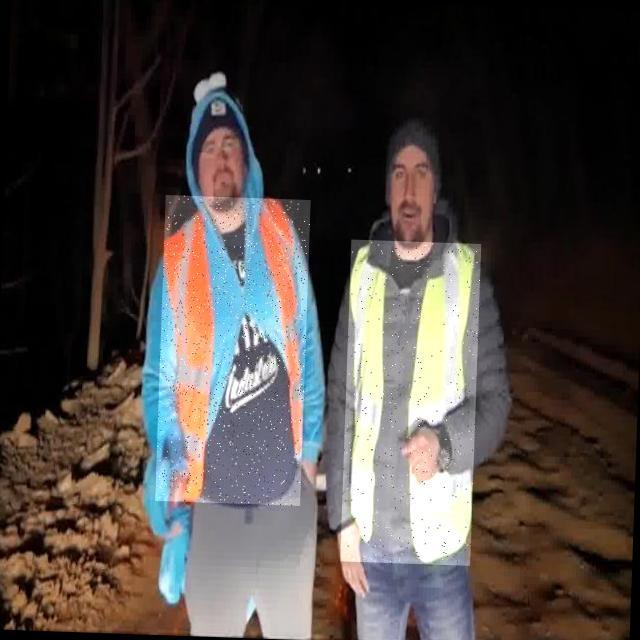Gloves: (133, 429, 202, 551)
Person: (98, 42, 328, 640), (328, 85, 530, 640)
Safety Vest: (155, 195, 311, 506), (340, 239, 481, 565)
bare-arms: (328, 510, 382, 599), (393, 410, 449, 491)
no-helmet: (178, 68, 256, 170), (375, 114, 457, 187)
